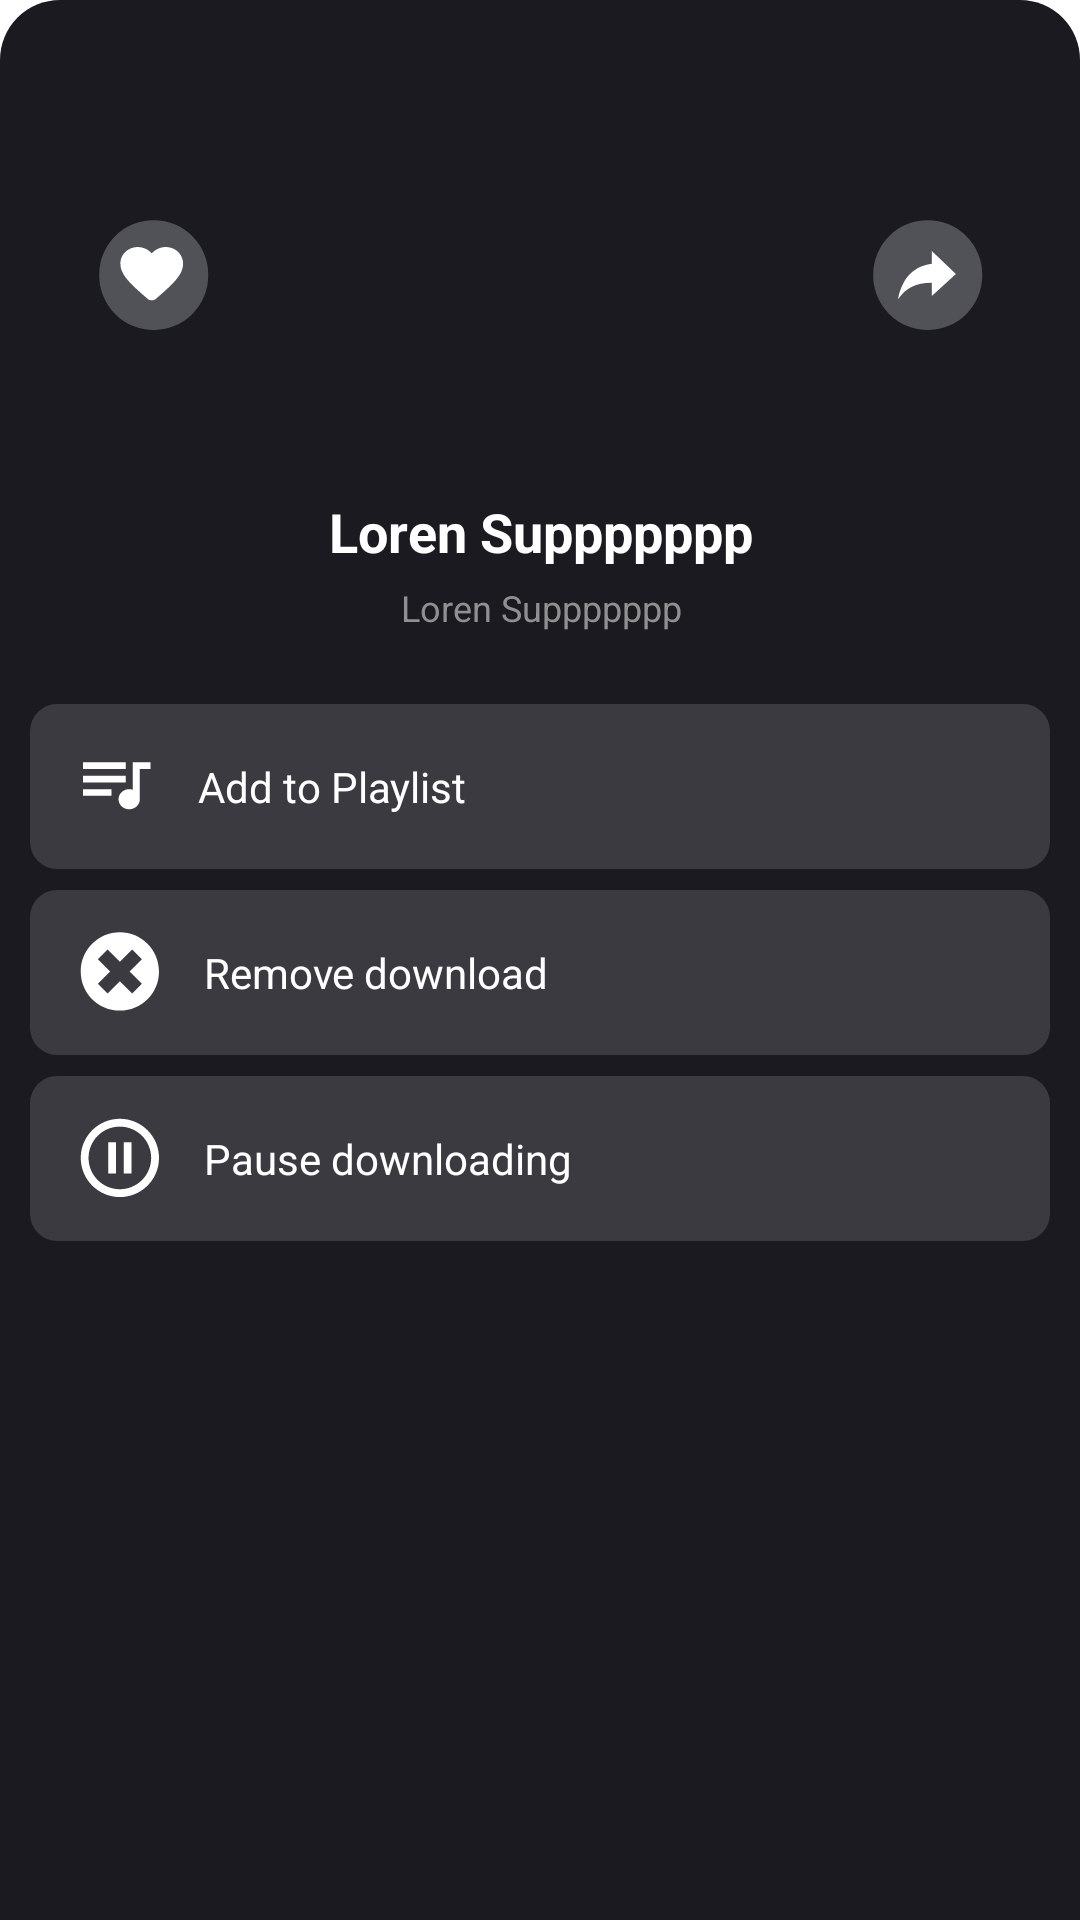

Named icons in this screenshot (1080px x 1920px) and their bounding boxes, [left=x1, top=y1, right=x2, bottom=y2]:
favorite: [left=120, top=247, right=183, bottom=301]
playlist acitve: [left=83, top=762, right=151, bottom=810]
share: [left=873, top=220, right=982, bottom=330]
